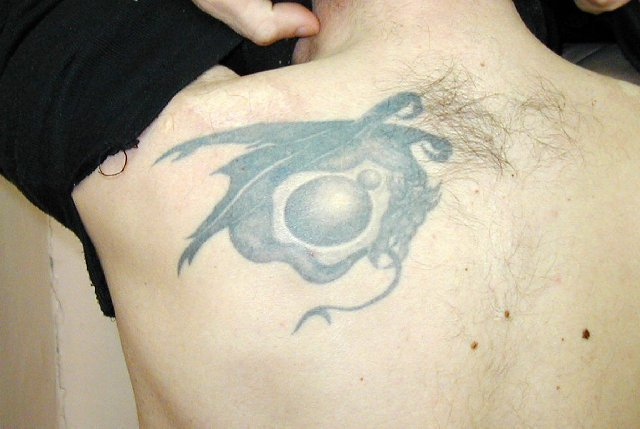tatu6_drakon: (150, 82, 468, 334)
